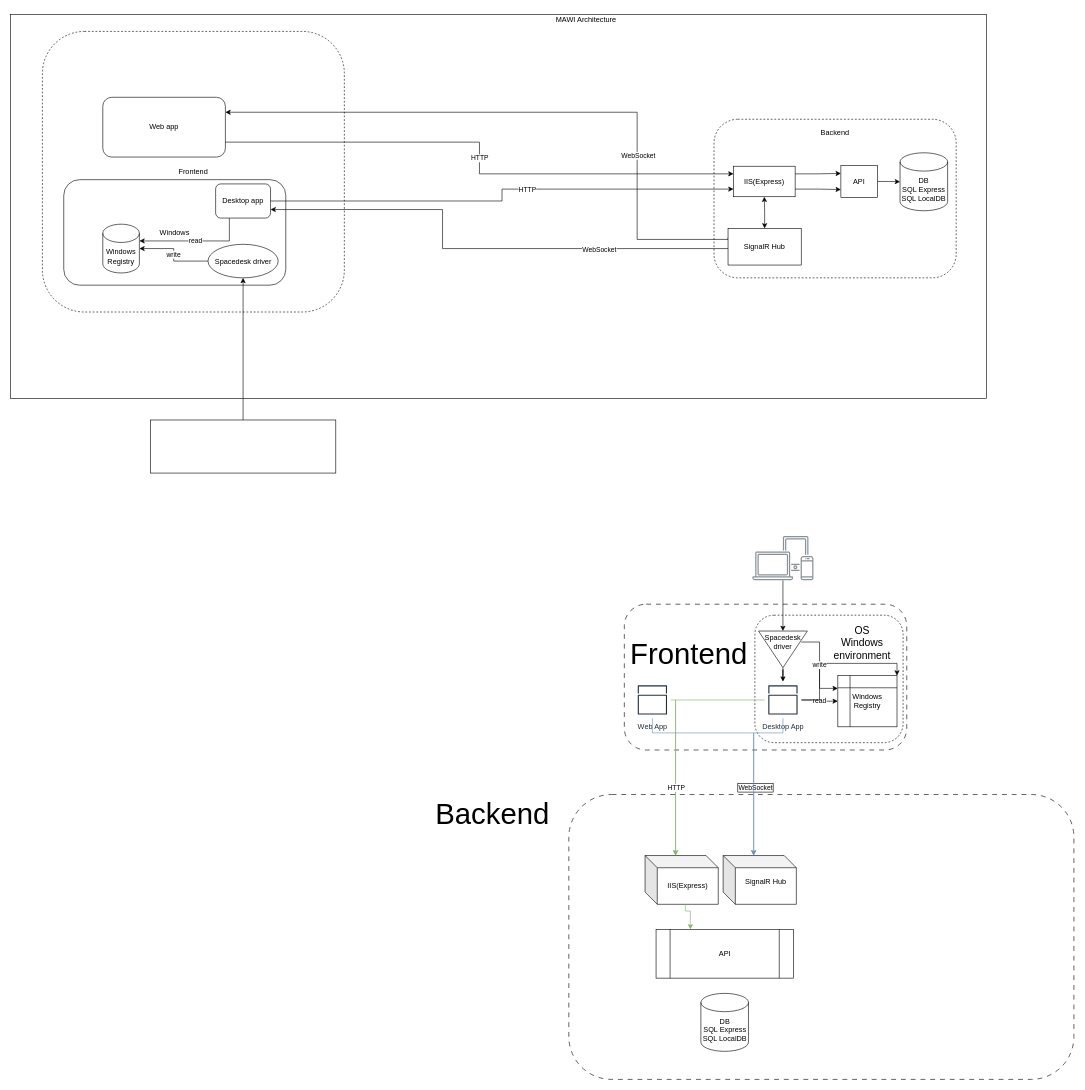
Image size: 1085x1090. Some labels were removed from this diagram. The shapes that lost their labels are listed below. From the top down, each one's centre as x and y in pixels, then its label:
the point at 243,446: DEVICES....
the point at 782,558: devices
